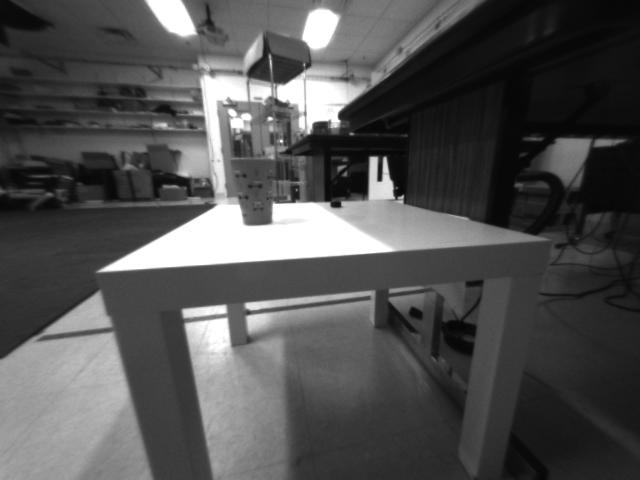coffee_cup: (226, 156, 289, 226)
